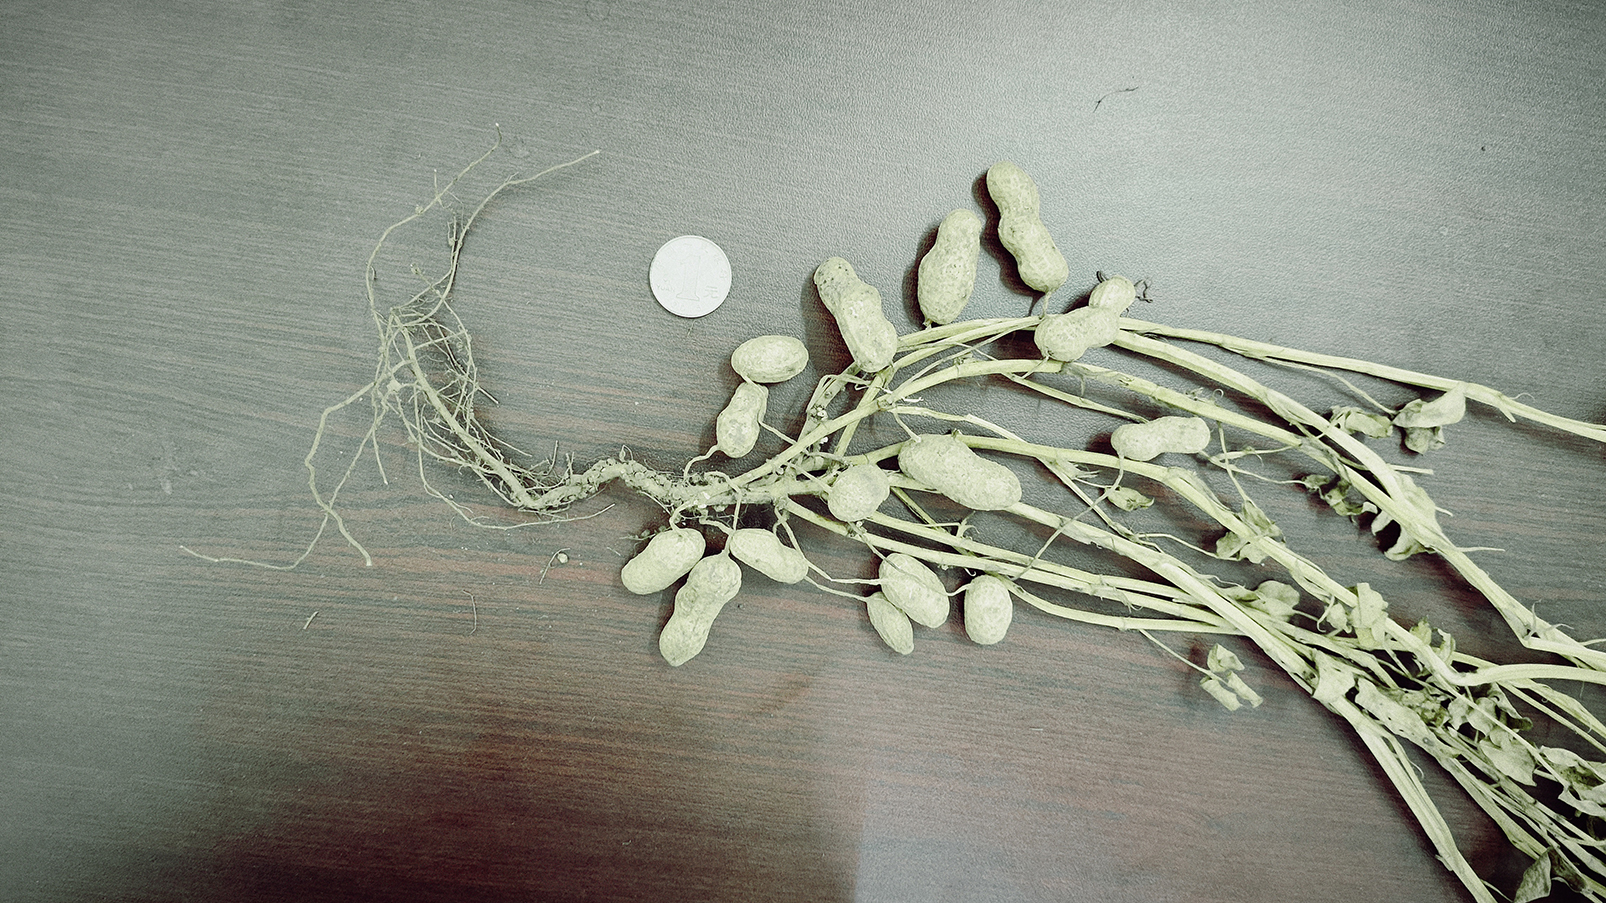h: (986, 164, 1072, 291), (811, 257, 896, 372), (896, 432, 1020, 509), (657, 553, 741, 668), (1034, 278, 1138, 362), (916, 207, 979, 323), (621, 525, 705, 595), (877, 552, 947, 628), (729, 524, 809, 585), (1111, 415, 1211, 461), (828, 460, 890, 525), (963, 572, 1014, 646), (715, 383, 765, 456), (731, 335, 809, 381), (868, 592, 916, 656)
